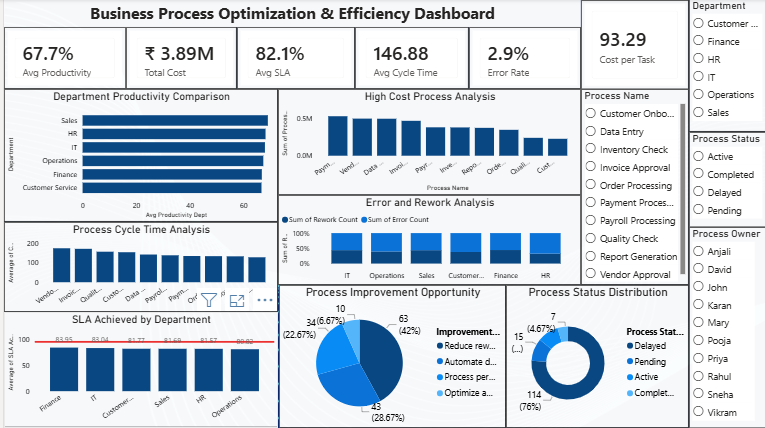

The page's visual inventory and layout, read from the dashboard file:
{"tool":"powerbi","page":{"name":"Page 1","canvas":[1280,720],"ordinal":0},"visuals":[{"type":"cardVisual","fields":{"Data":["business_process_optimization_dataset_150_rows.Avg Productivity"]},"box":[0,47,204.9,104.1],"z":0},{"type":"cardVisual","fields":{"Data":["business_process_optimization_dataset_150_rows.Total Cost"]},"box":[204.9,47,186.5,104.1],"z":1},{"type":"textbox","box":[0,0,969.2,47],"z":2},{"type":"cardVisual","fields":{"Data":["business_process_optimization_dataset_150_rows.Avg SLA"]},"box":[391.4,47,198.2,104.1],"z":3},{"type":"cardVisual","fields":{"Data":["business_process_optimization_dataset_150_rows.Avg Cycle Time"]},"box":[589.6,47,191.5,104.1],"z":4},{"type":"cardVisual","fields":{"Data":["business_process_optimization_dataset_150_rows.Error Rate"]},"box":[781.1,47,188.1,104.1],"z":5},{"type":"clusteredBarChart","title":"Department Productivity Comparison","fields":{"Category":["business_process_optimization_dataset_150_rows.Department"],"Y":["business_process_optimization_dataset_150_rows.Avg Productivity Dept"]},"box":[0,151.2,460.3,223.4],"z":6},{"type":"clusteredColumnChart","title":"Process Cycle Time Analysis","fields":{"Category":["business_process_optimization_dataset_150_rows.Process Name"],"Y":["Avg(business_process_optimization_dataset_150_rows.Cycle Time (Hours))"]},"box":[0,374.6,460.3,151.2],"z":7},{"type":"clusteredColumnChart","title":"High Cost Process Analysis","fields":{"Y":["Sum(business_process_optimization_dataset_150_rows.Process Cost)"],"Category":["business_process_optimization_dataset_150_rows.Process Name"]},"box":[460.3,151.2,509,178.1],"z":8},{"type":"hundredPercentStackedColumnChart","title":"Error and Rework Analysis","fields":{"Category":["business_process_optimization_dataset_150_rows.Department"],"Y":["Sum(business_process_optimization_dataset_150_rows.Rework Count)","Sum(business_process_optimization_dataset_150_rows.Error Count)"]},"box":[460.3,329.2,509,151.2],"z":9},{"type":"pieChart","title":" Process Improvement Opportunity","fields":{"Y":["CountNonNull(business_process_optimization_dataset_150_rows.Process ID)"],"Category":["business_process_optimization_dataset_150_rows.Improvement Opportunity"]},"box":[461.9,480.4,381.3,240.2],"z":11},{"type":"donutChart","title":"Process Status Distribution","fields":{"Category":["business_process_optimization_dataset_150_rows.Process Status"],"Y":["CountNonNull(business_process_optimization_dataset_150_rows.Process ID)"]},"box":[843.3,480.4,307.4,240.2],"z":12},{"type":"listSlicer","fields":{"Values":["business_process_optimization_dataset_150_rows.Department"]},"box":[1150.7,0,129.3,223.4],"z":13},{"type":"listSlicer","fields":{"Values":["business_process_optimization_dataset_150_rows.Process Name"]},"box":[969.2,151.2,181.4,329.2],"z":14},{"type":"listSlicer","fields":{"Values":["business_process_optimization_dataset_150_rows.Process Owner"]},"box":[1150.7,383,129.3,337.6],"z":15},{"type":"listSlicer","fields":{"Values":["business_process_optimization_dataset_150_rows.Process Status"]},"box":[1150.7,223.4,129.3,159.6],"z":16},{"type":"cardVisual","fields":{"Data":["business_process_optimization_dataset_150_rows.Cost per Task"]},"box":[969,1,181,150],"z":17},{"type":"clusteredColumnChart","title":"SLA Achieved by Department","fields":{"Category":["business_process_optimization_dataset_150_rows.Department"],"Y":["Avg(business_process_optimization_dataset_150_rows.SLA Achieved)"]},"box":[0,526,460,194],"z":18}]}

Visuals, with their boxes in screenshot pixels (x1, y1, x2, y2), scaled from the page's 1280x720 canvas onto the 765x428 screenshot:
cardVisual - business_process_optimization_dataset_150_rows.Avg Productivity: (0,28,122,90)
cardVisual - business_process_optimization_dataset_150_rows.Total Cost: (122,28,234,90)
textbox: (0,0,579,28)
cardVisual - business_process_optimization_dataset_150_rows.Avg SLA: (234,28,352,90)
cardVisual - business_process_optimization_dataset_150_rows.Avg Cycle Time: (352,28,467,90)
cardVisual - business_process_optimization_dataset_150_rows.Error Rate: (467,28,579,90)
"Department Productivity Comparison" clusteredBarChart: (0,90,275,223)
"Process Cycle Time Analysis" clusteredColumnChart: (0,223,275,313)
"High Cost Process Analysis" clusteredColumnChart: (275,90,579,196)
"Error and Rework Analysis" hundredPercentStackedColumnChart: (275,196,579,286)
" Process Improvement Opportunity" pieChart: (276,286,504,427)
"Process Status Distribution" donutChart: (504,286,688,427)
listSlicer - business_process_optimization_dataset_150_rows.Department: (688,0,764,133)
listSlicer - business_process_optimization_dataset_150_rows.Process Name: (579,90,688,286)
listSlicer - business_process_optimization_dataset_150_rows.Process Owner: (688,228,764,427)
listSlicer - business_process_optimization_dataset_150_rows.Process Status: (688,133,764,228)
cardVisual - business_process_optimization_dataset_150_rows.Cost per Task: (579,1,687,90)
"SLA Achieved by Department" clusteredColumnChart: (0,313,275,427)
